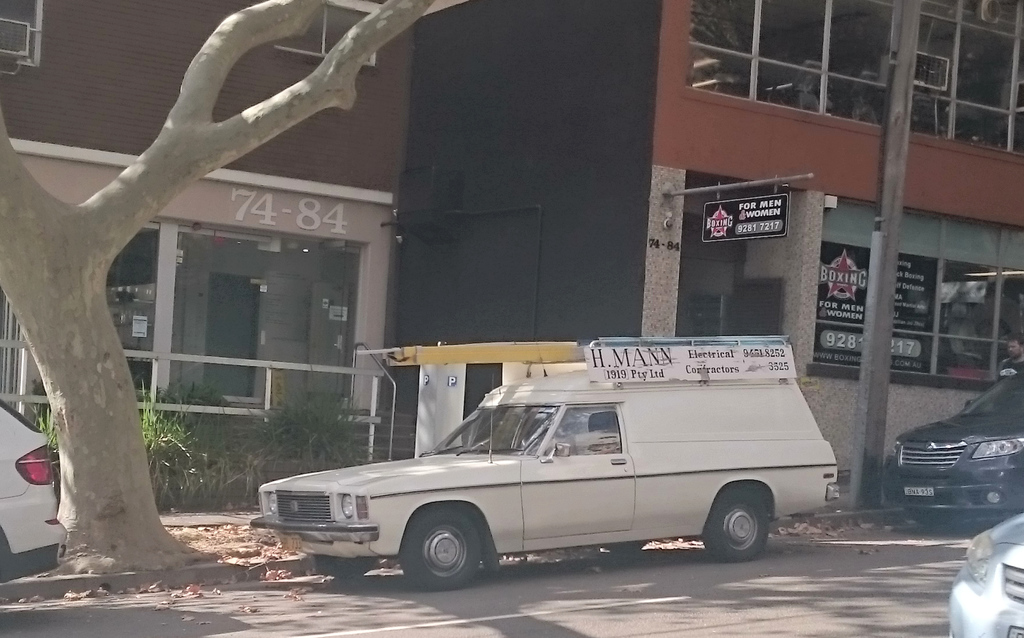Car: (247, 368, 843, 595), (880, 355, 1023, 527), (0, 399, 67, 580), (949, 515, 1023, 636)
